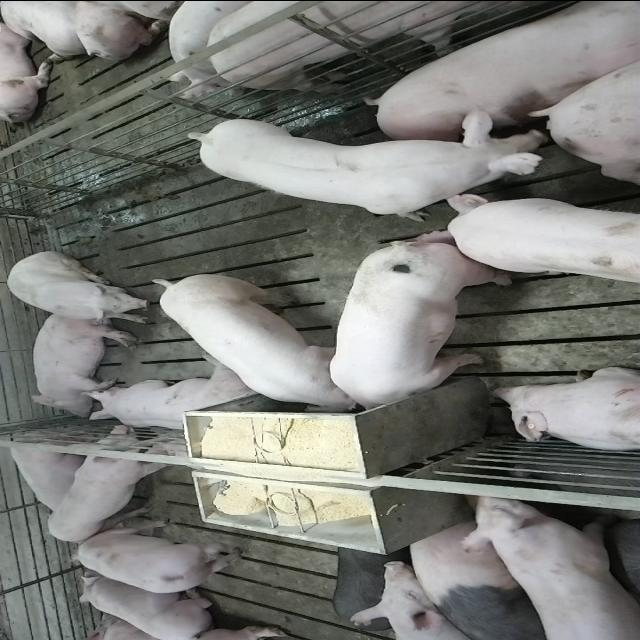Feeding: (328, 240, 512, 420), (142, 268, 358, 410)
Lateral_lying: (26, 308, 140, 418)
Sitting: (6, 251, 154, 325)
Standing: (200, 0, 640, 94), (190, 113, 558, 220), (456, 491, 638, 638), (402, 522, 568, 638), (447, 196, 640, 288), (48, 422, 176, 542), (63, 528, 245, 594)
Sternal_lying: (489, 366, 640, 454), (83, 360, 263, 432), (66, 579, 218, 639), (4, 430, 92, 514)
